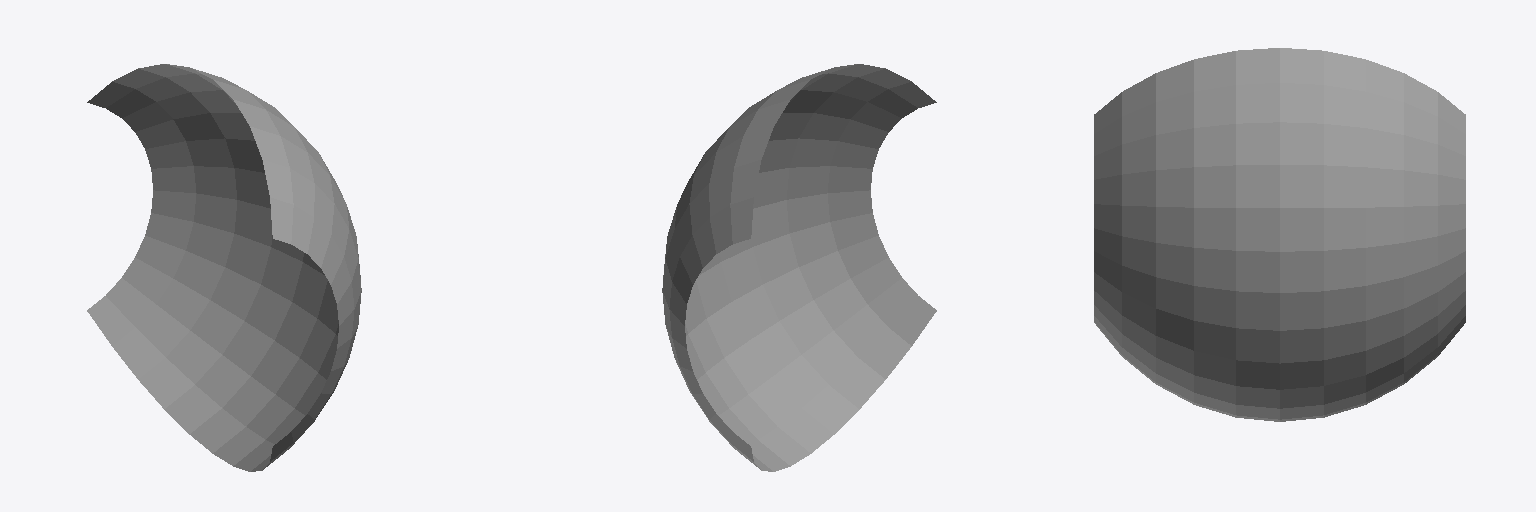
The model's file is inverted_semisphere.obj.
3 views of the same model, side by side, from view 1: azimuth 30°, elevation 25°; view 2: azimuth 150°, elevation 25°; view 3: azimuth 270°, elevation 25° (orthographic).
Parts seen in each view (by area): view 1: Sphere; view 2: Sphere; view 3: Sphere.
Part boxes in pixels (x1,y1,x2,y2): Sphere: (87,64,361,471); Sphere: (662,64,936,471); Sphere: (1094,48,1465,421).
Bounding box in the file's own units: 189 × 443 × 398.